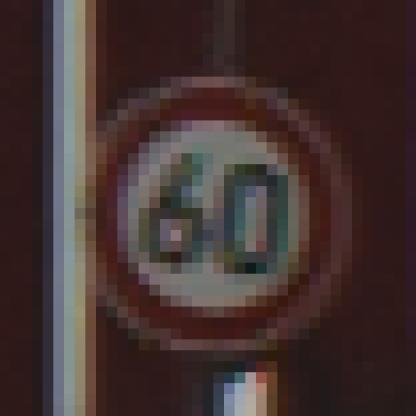Speed Limit 60: (91, 81, 335, 350)
